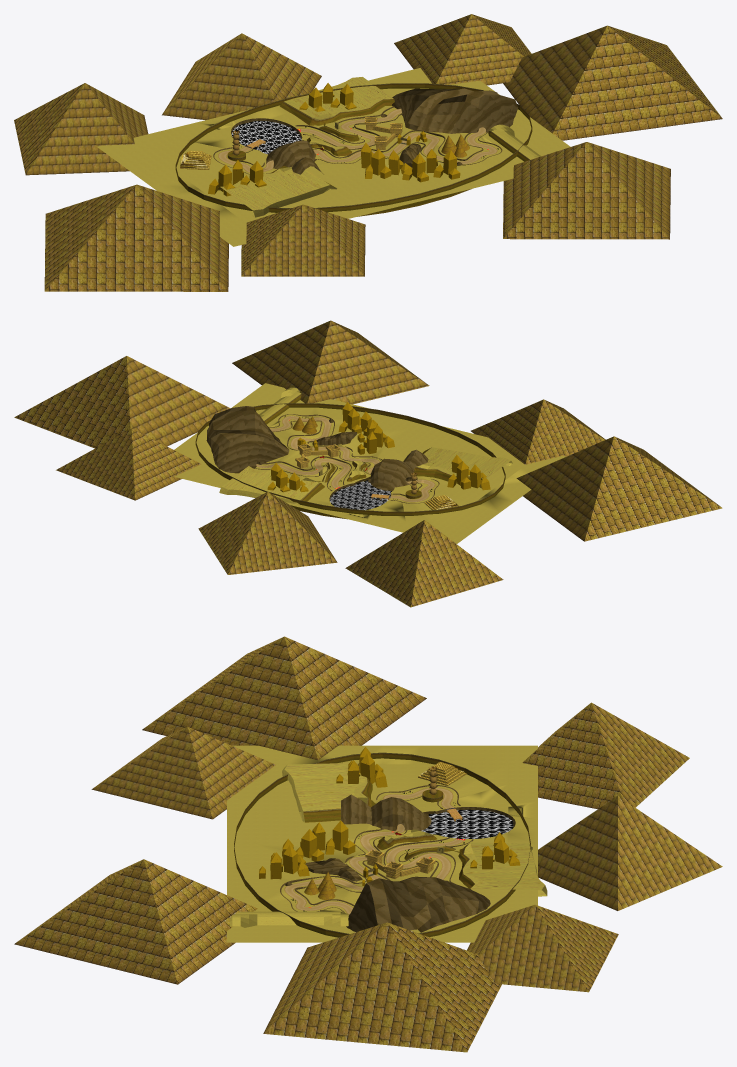
3 views of the same model, one above another, from view 1: azimuth 30°, elevation 25°; view 2: azimuth 150°, elevation 25°; view 3: azimuth 270°, elevation 25° (orthographic). The views are drawn at different scales.
Parts seen in each view (by area): view 1: Pyramiden, Begrenzunginnen, sichtbegrenzung, Berg2.001, Desert_Stein.002, Begrenzunginnen.003, Wasser, Begrenzunginnen.001, Berg1, object 15, object 11; view 2: Pyramiden, Begrenzunginnen, Berg2.001, sichtbegrenzung, Desert_Stein.002, Begrenzunginnen.003, Berg1, Wasser, Begrenzunginnen.001, object 15; view 3: Pyramiden, Begrenzunginnen, Berg2.001, sichtbegrenzung, Desert_Stein.002, Begrenzunginnen.003, Berg1, Wasser, Begrenzunginnen.001, object 15.
Part boxes in pixels (x1,y1,x2,y2): Pyramiden: [14, 14, 722, 291]; Begrenzunginnen: [97, 68, 570, 246]; sichtbegrenzung: [175, 83, 532, 216]; Berg2.001: [381, 88, 517, 167]; Desert_Stein.002: [208, 83, 460, 196]; Begrenzunginnen.003: [218, 109, 497, 172]; Wasser: [231, 121, 301, 154]; Begrenzunginnen.001: [213, 106, 502, 174]; Berg1: [266, 140, 323, 174]; object 15: [364, 117, 402, 149]; object 11: [180, 150, 211, 169]; Pyramiden: [14, 320, 722, 607]; Begrenzunginnen: [174, 383, 566, 543]; Berg2.001: [206, 406, 356, 473]; sichtbegrenzung: [195, 393, 505, 519]; Desert_Stein.002: [267, 402, 490, 492]; Begrenzunginnen.003: [256, 415, 435, 502]; Berg1: [368, 449, 428, 491]; Wasser: [330, 480, 391, 510]; Begrenzunginnen.001: [254, 414, 439, 503]; object 15: [295, 443, 340, 468]; Pyramiden: [14, 636, 722, 1052]; Begrenzunginnen: [227, 745, 547, 942]; Berg2.001: [285, 858, 490, 932]; sichtbegrenzung: [234, 752, 530, 937]; Desert_Stein.002: [259, 747, 520, 885]; Begrenzunginnen.003: [284, 787, 463, 914]; Berg1: [341, 794, 431, 830]; Wasser: [421, 809, 513, 838]; Begrenzunginnen.001: [280, 785, 473, 912]; object 15: [365, 849, 435, 879].
Size of the model in its own units: 301765 by 32062 by 226798.
21 materials, 21 textured.
